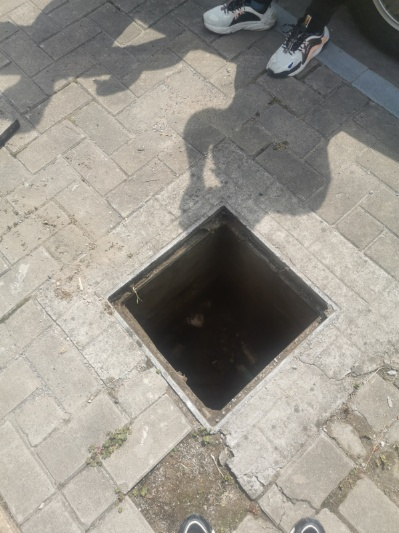lose: (104, 202, 342, 436)
